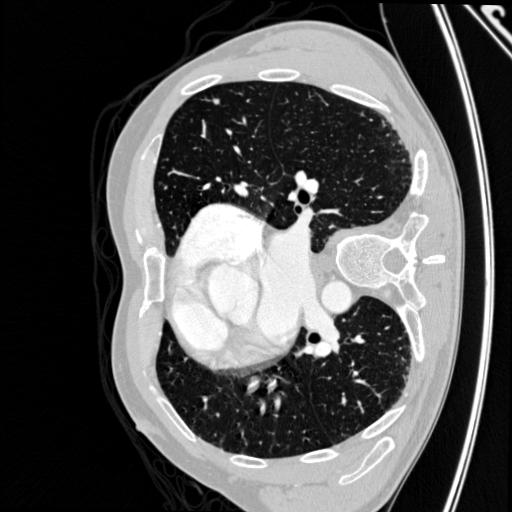nodule: (211, 96, 222, 107)
